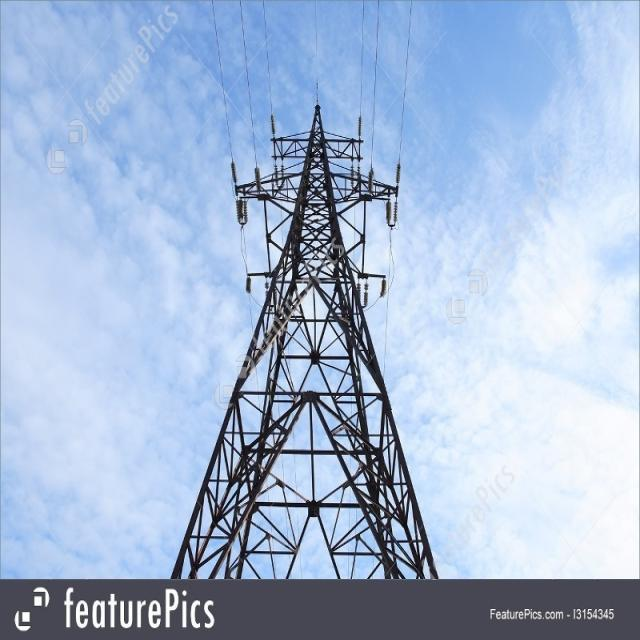non-critical vegetation: (168, 93, 458, 576)
